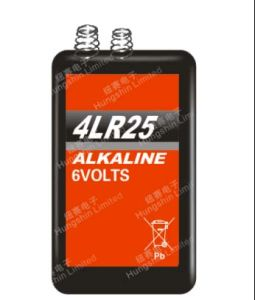6V: (44, 20, 205, 296)
